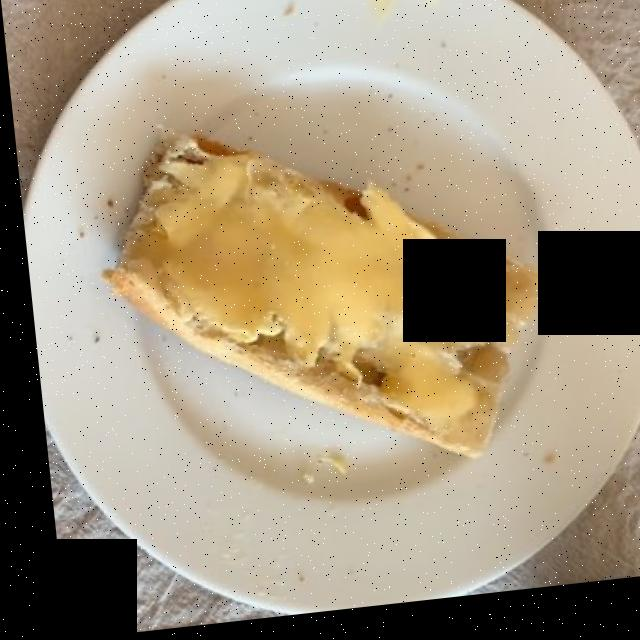bread: (102, 144, 535, 453)
butter: (144, 163, 490, 429)
honey: (137, 155, 535, 438)
